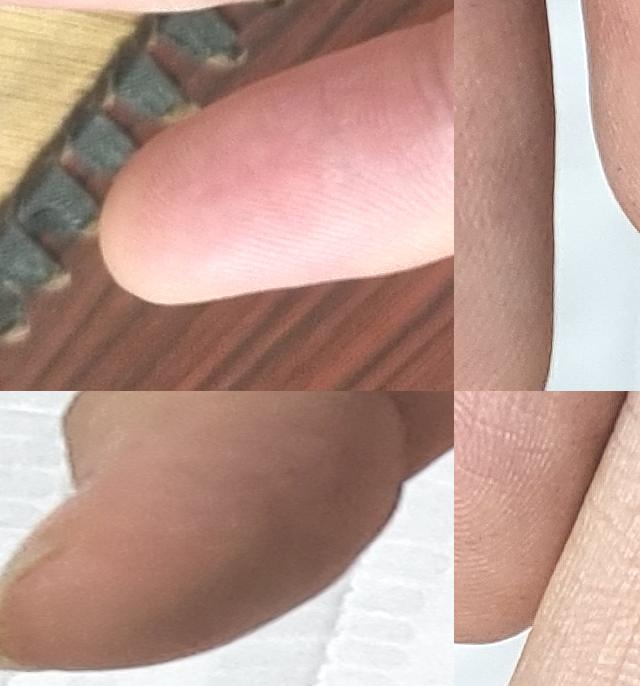Fingerprints: (0, 391, 404, 671), (99, 25, 453, 305), (454, 391, 627, 646), (454, 0, 549, 391)
